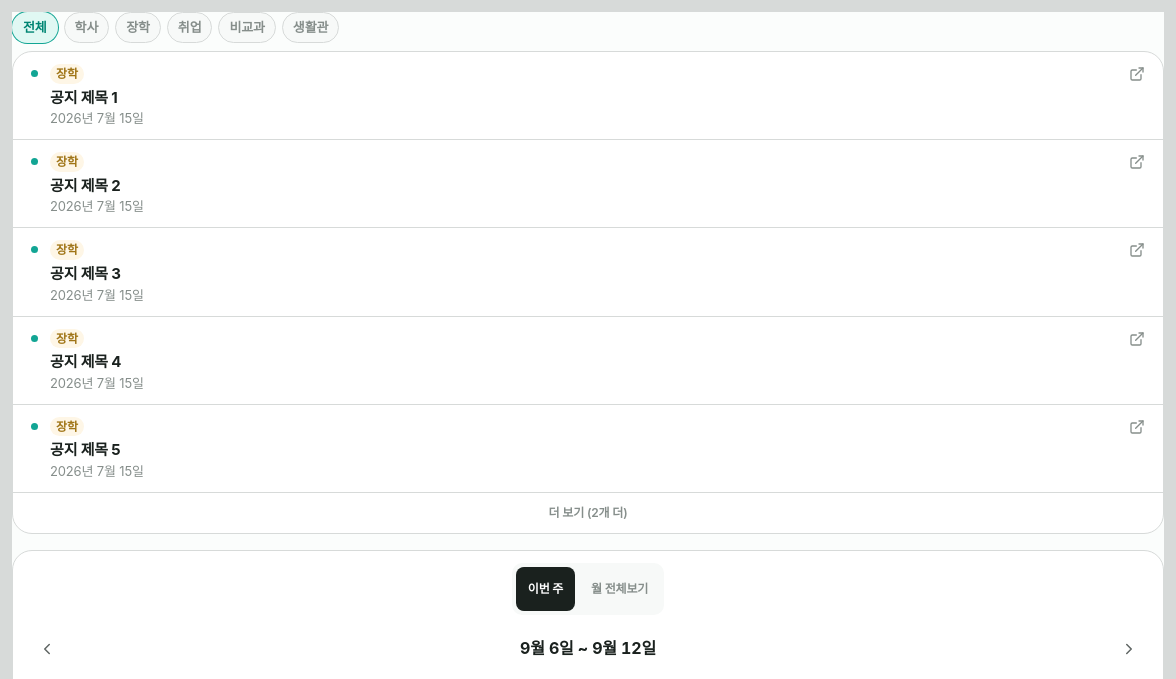
Test: AcademicNoticesTab — 학교 공지 리스트 › 처음에는 5개만 렌더링하고 "더 보기"를 누르면 나머지가 보인다
Expected: the heading "공지 제목 5" is shown, left=50, top=440, right=120, bottom=460
Expected: the text "공지 제목 6" is not shown
Click the button "더 보기 (2개 더)".
click(588, 512)  # box left=13, top=492, right=1163, bottom=533
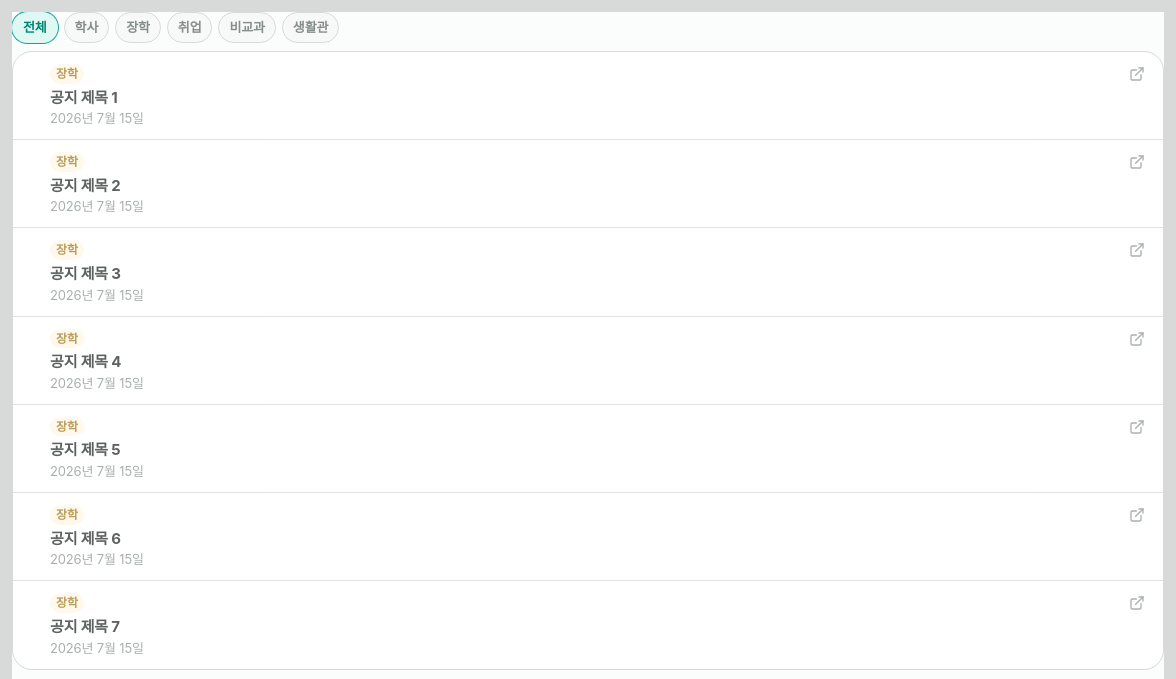
Result: the heading "공지 제목 7" is shown at left=50, top=617, right=120, bottom=636
Result: the button "더 보기 (" is gone
